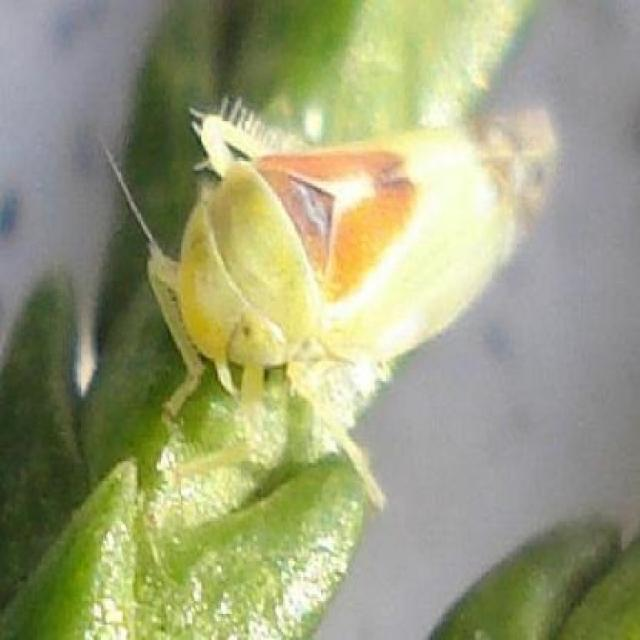green-leafhopper: (142, 104, 563, 512)
